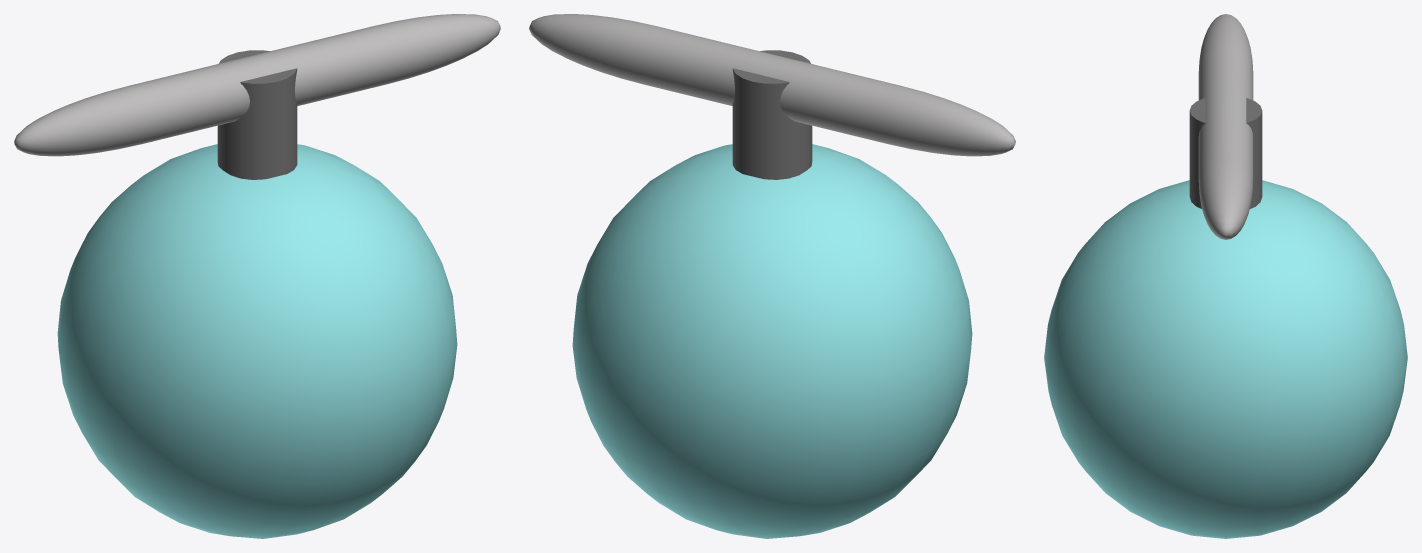
The model's file is Player_v2.fbx.
3 views of the same model, side by side, from view 1: azimuth 30°, elevation 25°; view 2: azimuth 150°, elevation 25°; view 3: azimuth 270°, elevation 25° (orthographic). The views are drawn at different scales.
Visible parts, largest first — view 1: Body.004, HorizontalAxis.004, VerticalAxis.003, VerticalAxis.002; view 2: Body.004, HorizontalAxis.004, VerticalAxis.003, VerticalAxis.002; view 3: Body.004, HorizontalAxis.004, VerticalAxis.003, VerticalAxis.002.
Part boxes in pixels (<box>): Body.004: <box>57,144,457,538</box>; HorizontalAxis.004: <box>14,14,500,156</box>; VerticalAxis.003: <box>217,69,297,179</box>; VerticalAxis.002: <box>219,50,297,83</box>; Body.004: <box>572,144,972,538</box>; HorizontalAxis.004: <box>529,14,1015,156</box>; VerticalAxis.003: <box>732,69,812,179</box>; VerticalAxis.002: <box>732,50,810,83</box>; Body.004: <box>1044,180,1407,538</box>; HorizontalAxis.004: <box>1198,14,1253,239</box>; VerticalAxis.003: <box>1189,111,1262,208</box>; VerticalAxis.002: <box>1189,98,1262,122</box>.
Size of the model in its own units: 98 by 89.25 by 70.
